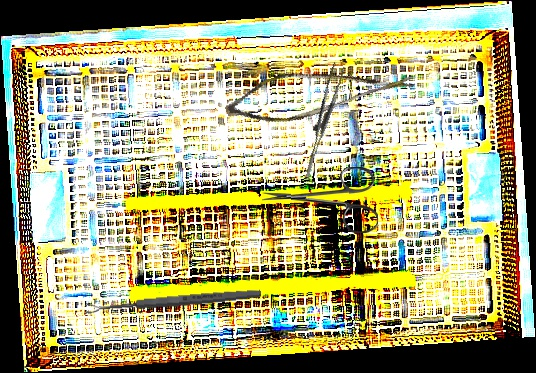Iris Scissors: (261, 164, 379, 234)
Micro Scissor: (221, 32, 416, 150)
Surgical Spoon: (84, 287, 262, 315)
Tissue Forceps: (287, 62, 356, 177)
